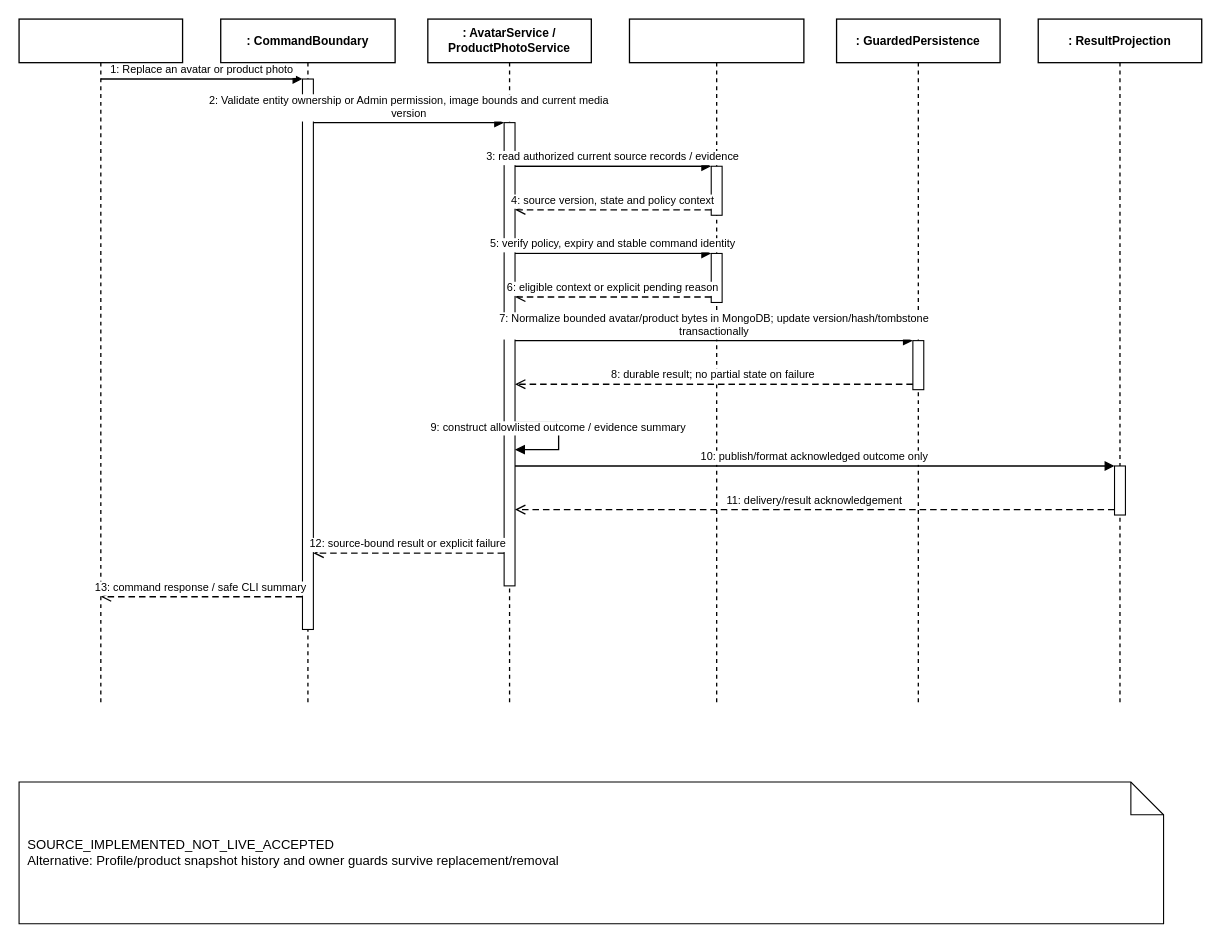
Some shapes in this 1222 by 944 pixel diagram are drawn without their labels. The shapes that lost their labels are listed below. From the top down, each one's box as (x1, y1, x2, y2) in pixels, then its label:
(18, 18, 183, 706): Actor (Owner / Admin)
(628, 18, 804, 706): : SourceRepository
